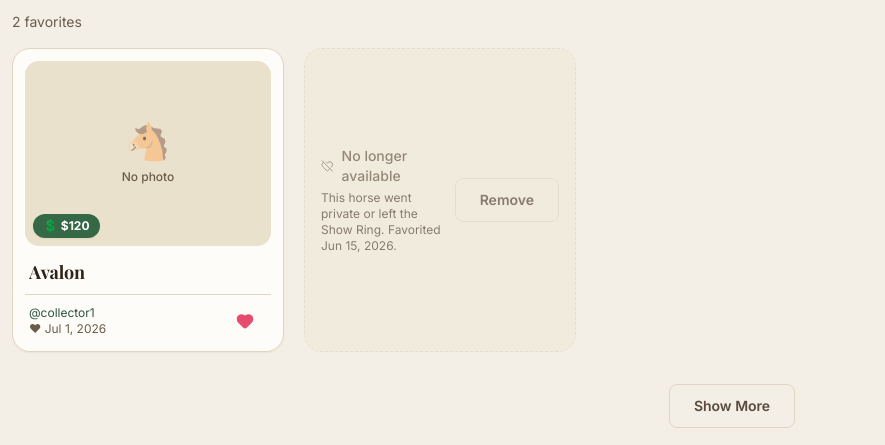
Test: FavoritesBrowser › appends the next page via Show More
Click the button "Show More": (732, 406) [669,384,795,428]
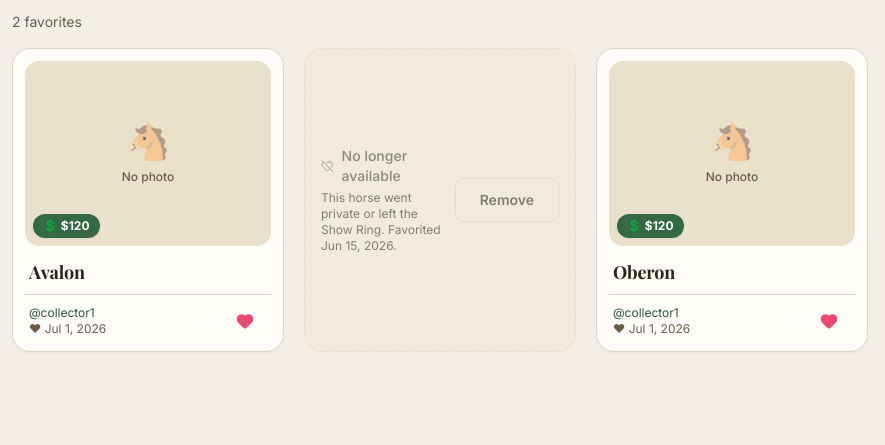
Now the heading "Oberon" is shown, box [613,260,675,284]
Now the button "Show More" is gone
